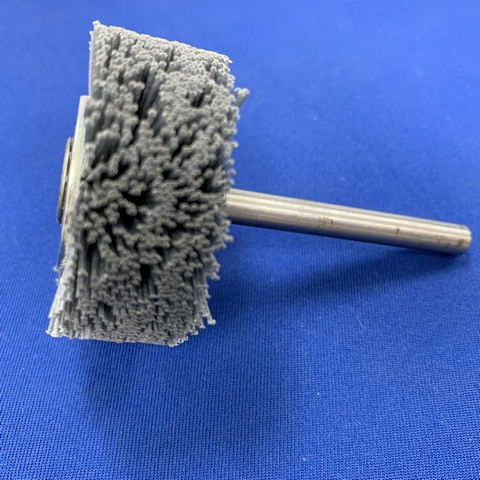Wheel Brush: (31, 25, 471, 353), (39, 24, 467, 341), (24, 16, 323, 354), (58, 14, 302, 365)
